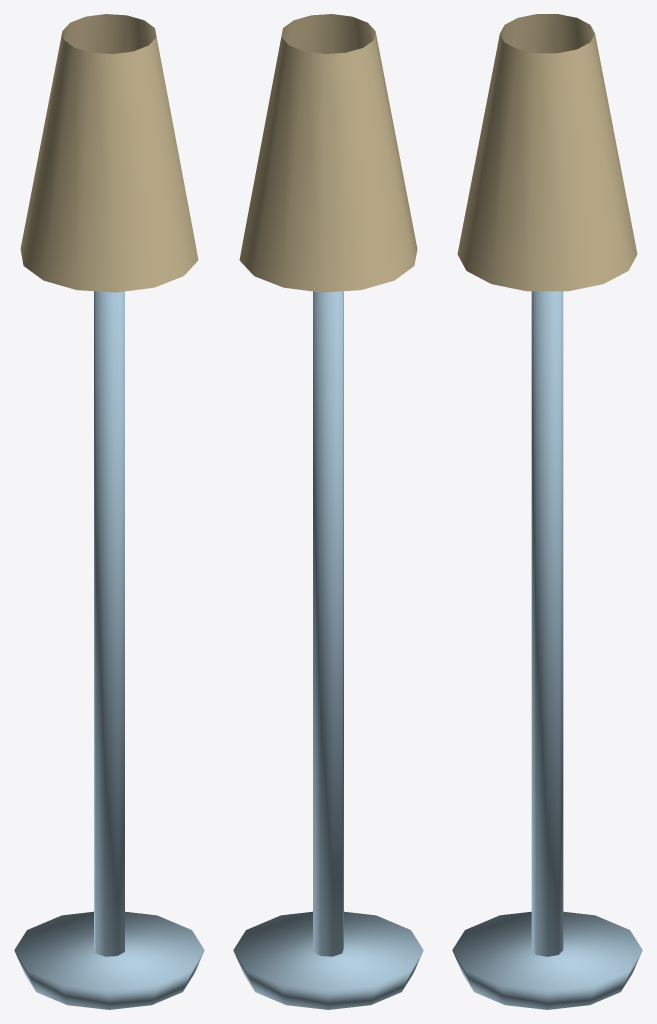
File: glass_lamp_v0.glb
The picture shows the model from 3 angles, left to right: view 1: azimuth 30°, elevation 25°; view 2: azimuth 150°, elevation 25°; view 3: azimuth 270°, elevation 25°; orthographic projection.
Parts seen in each view (by area): view 1: glass_lamp_v0; view 2: glass_lamp_v0; view 3: glass_lamp_v0.
Boxes of the visible parts, x1,y1,x2,y2 form: glass_lamp_v0: [14, 14, 204, 1009]; glass_lamp_v0: [233, 14, 423, 1009]; glass_lamp_v0: [452, 14, 642, 1009].
Size of the model in its own units: 0.36 by 1.96 by 0.36.
